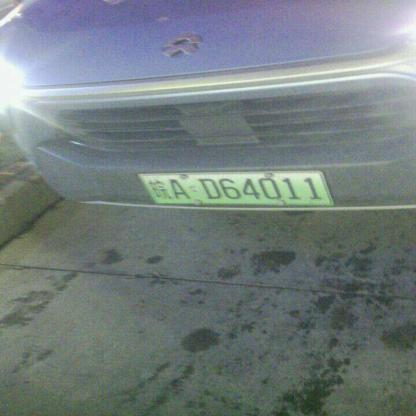lp: (139, 172, 333, 204)
